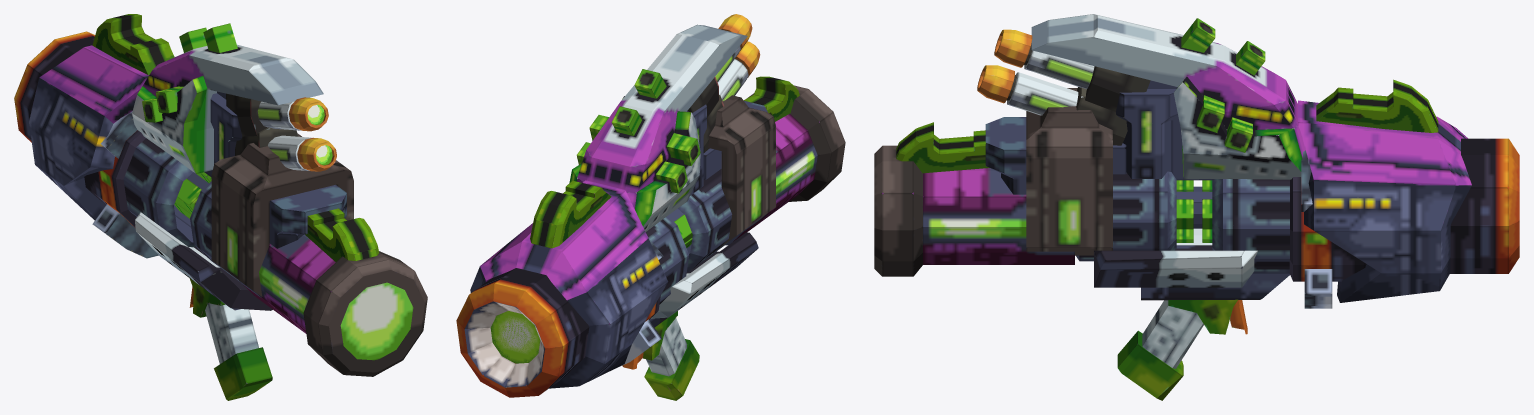
File: plsmacannon.fbx
3 renders of one model, left to right at view 1: azimuth 30°, elevation 25°; view 2: azimuth 150°, elevation 25°; view 3: azimuth 270°, elevation 25°, orthographic. The views are drawn at different scales.
Visible parts, largest first — view 1: tube_3, tube_1, cuboid, cuboid_1, tube_2, cube_15, tube_selection, cuboid_11, cuboid_selection, cuboid_12, tube_5, cuboid_6 (+16 smaller); view 2: tube_1, cuboid, tube_5, cuboid_1, tube_3, cuboid_11, tube_7, tube_selection, cube_2, tube_2, cuboid_7, cuboid_12 (+13 smaller); view 3: tube_1, cuboid, tube_3, cuboid_1, tube_5, tube_2, tube_selection, cuboid_selection_1, tube_7, cuboid_11, tube_6, cuboid_12 (+15 smaller).
Part boxes in pixels (x1,y1,x2,y2): tube_3: (239,212,427,376); tube_1: (29,45,149,220); cuboid: (132,44,323,173); cuboid_1: (211,133,353,296); tube_2: (123,138,195,247); cube_15: (340,282,413,360); tube_selection: (135,212,272,310); cuboid_11: (92,14,174,74); cuboid_selection: (269,184,346,248); cuboid_12: (305,208,379,261); tube_5: (14,31,95,142); cuboid_6: (205,303,258,383); tube_1: (470,180,668,388); cuboid: (569,24,747,231); tube_5: (456,268,589,397); cuboid_1: (708,95,775,246); tube_3: (725,85,845,245); cuboid_11: (530,180,611,248); tube_7: (678,169,732,272); tube_selection: (635,192,758,318); cube_2: (490,311,540,363); tube_2: (646,216,689,304); cuboid_7: (644,339,699,400); cuboid_12: (744,76,799,121); tube_1: (1298,100,1471,302); cuboid: (1031,14,1305,179); tube_3: (874,145,1074,276); cuboid_1: (1026,88,1112,255); tube_5: (1450,138,1519,273); tube_2: (1212,179,1289,273); tube_selection: (1094,228,1257,287); cuboid_selection_1: (1116,89,1212,180); tube_7: (1076,171,1176,261); cuboid_11: (1316,79,1438,132); tube_6: (1289,177,1366,281); cuboid_12: (896,122,989,173).
Bounding box in the file's own units: 71.13 × 164 × 257.
1 material, 1 textured.
